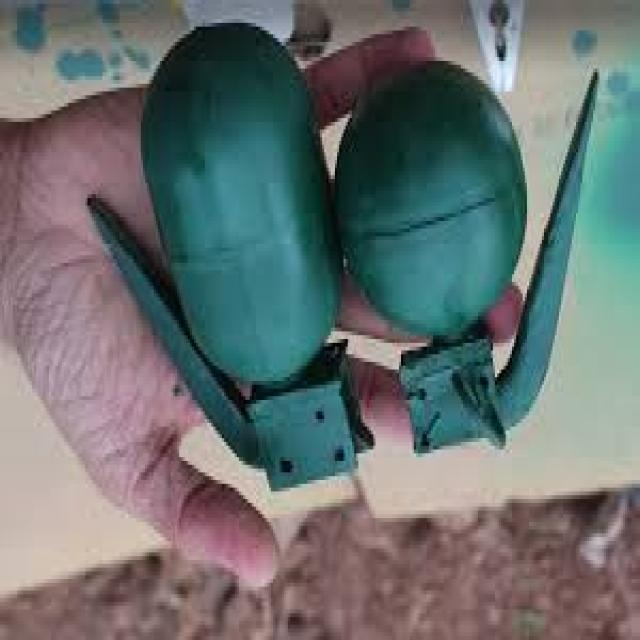grenade: (84, 19, 380, 503), (329, 52, 609, 465)
